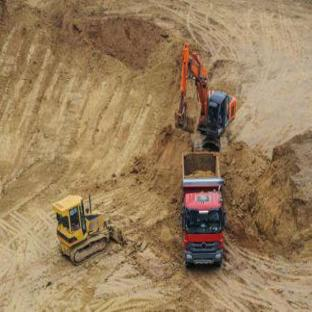ExcavationMachinery: (158, 40, 251, 150)
Vehicle: (177, 154, 252, 267)
